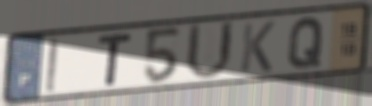5: (141, 24, 184, 87)
I: (44, 36, 60, 94)
K: (237, 20, 278, 75)
Q: (285, 15, 327, 71)
T: (96, 31, 135, 88)
U: (182, 20, 236, 83)
